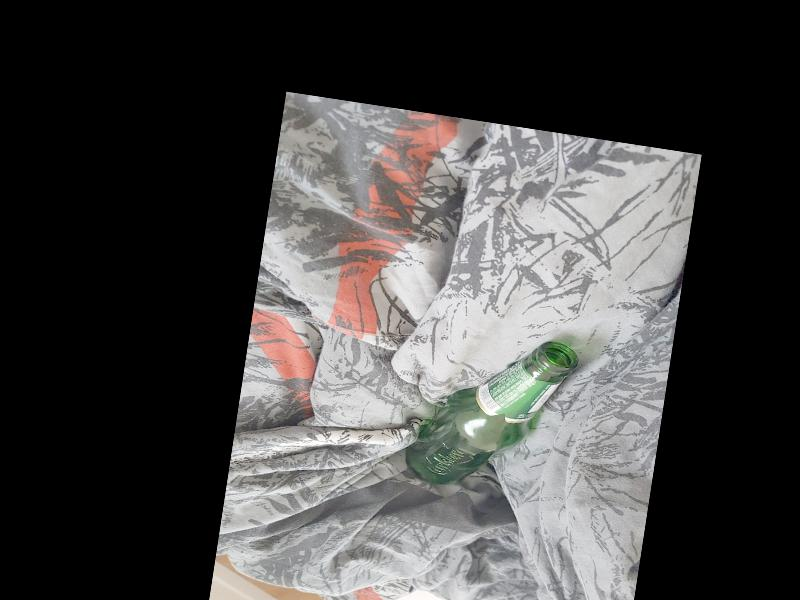Beer: (402, 320, 578, 501)
